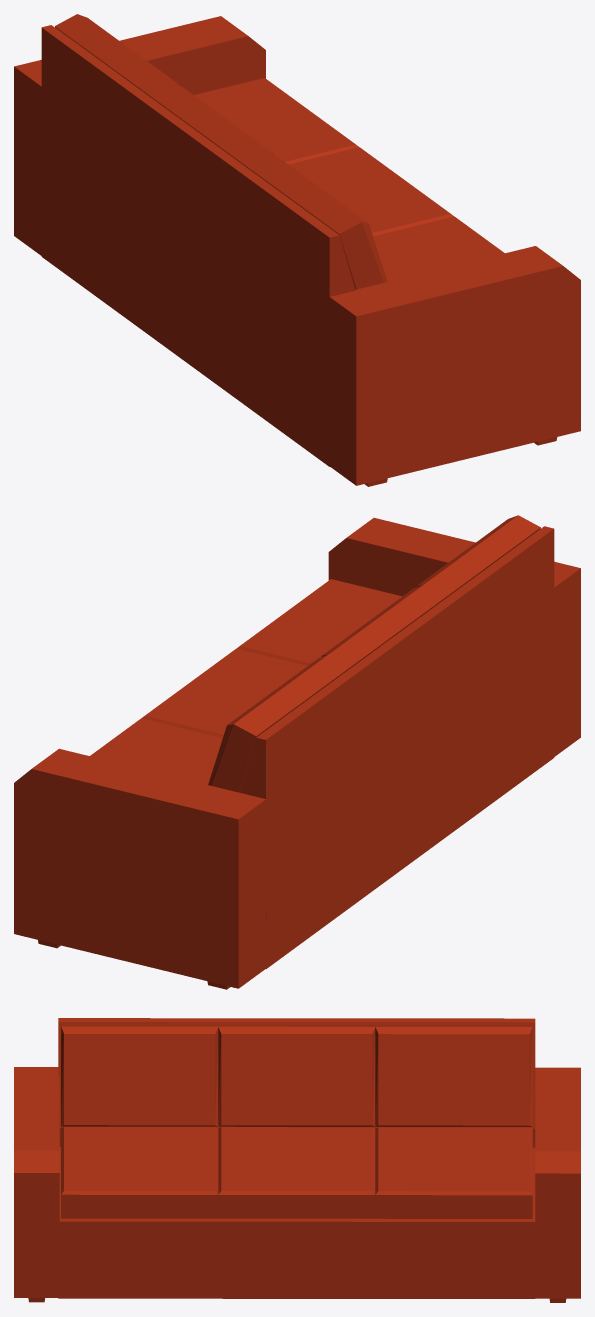
The model's file is Sofa2.gltf.
The picture shows the model from 3 angles, top to bottom: view 1: azimuth 30°, elevation 25°; view 2: azimuth 150°, elevation 25°; view 3: azimuth 270°, elevation 25°; orthographic projection. The views are drawn at different scales.
Visible parts, largest first — view 1: node-0.001; view 2: node-0.001; view 3: node-0.001.
Boxes of the visible parts, x1,y1,x2,y2 form: node-0.001: (14, 14, 580, 486); node-0.001: (14, 515, 580, 989); node-0.001: (14, 1018, 580, 1302).
Bounding box in the file's own units: 1.3 × 1.37 × 3.43.
